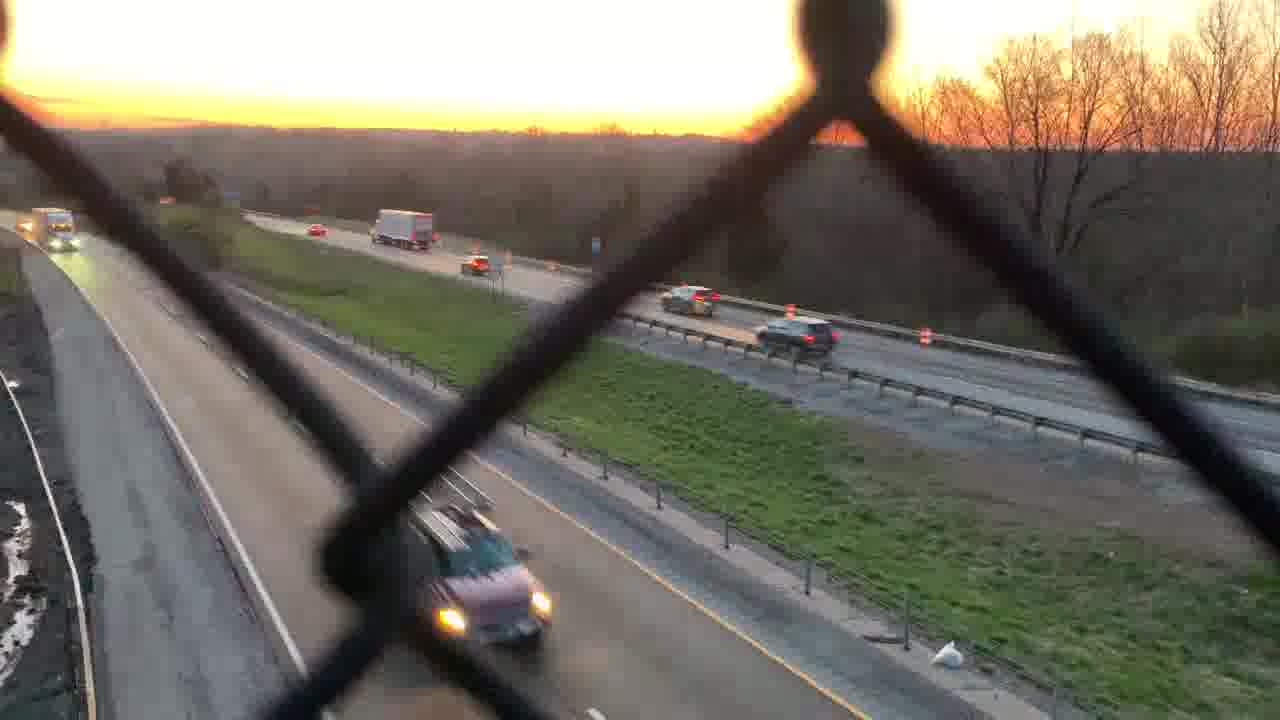heavyTruck: (366, 208, 439, 252), (32, 206, 85, 255)
largeCar: (752, 315, 840, 360), (659, 282, 725, 316)
lightTruck: (396, 466, 560, 665)
vehicle: (302, 221, 328, 238)
